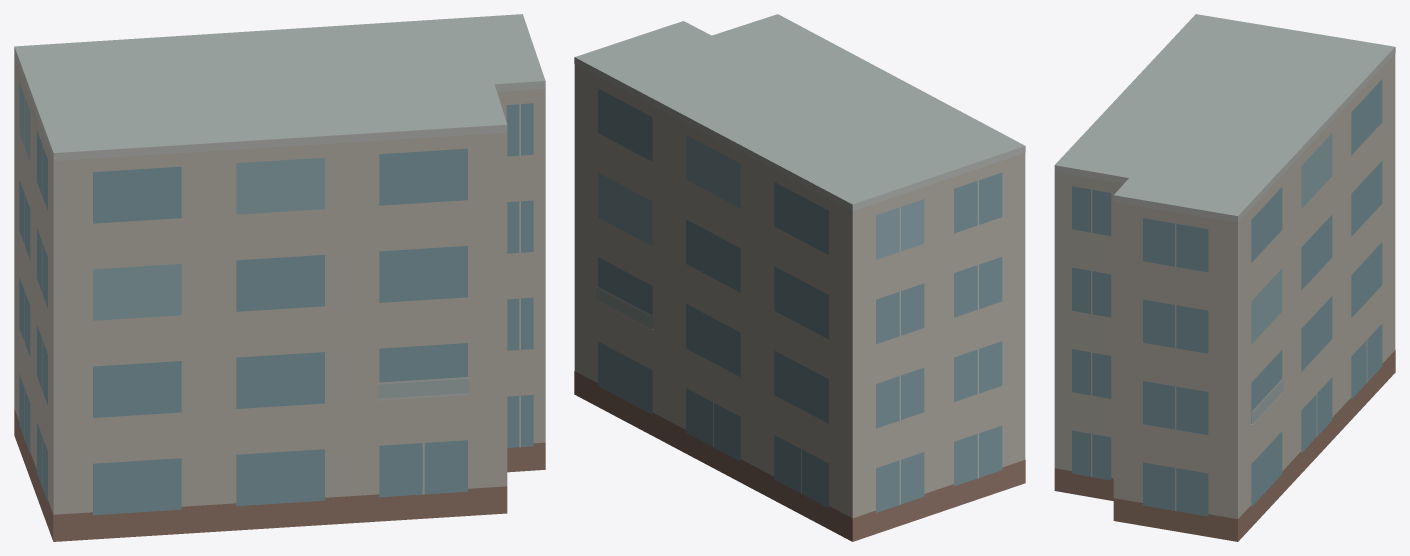
The model's file is survey-upis-32878033.glb.
3 renders of one model, left to right at view 1: azimuth 30°, elevation 25°; view 2: azimuth 150°, elevation 25°; view 3: azimuth 270°, elevation 25°, orthographic. The views are drawn at different scales.
Parts seen in each view (by area): view 1: survey-upis-32878033.tmp; view 2: survey-upis-32878033.tmp; view 3: survey-upis-32878033.tmp.
Part boxes in pixels (x1,y1,x2,y2): survey-upis-32878033.tmp: [14, 14, 545, 541]; survey-upis-32878033.tmp: [574, 14, 1025, 541]; survey-upis-32878033.tmp: [1054, 14, 1395, 541].
Bounding box in the file's own units: 16.12 × 12.1 × 11.49.
